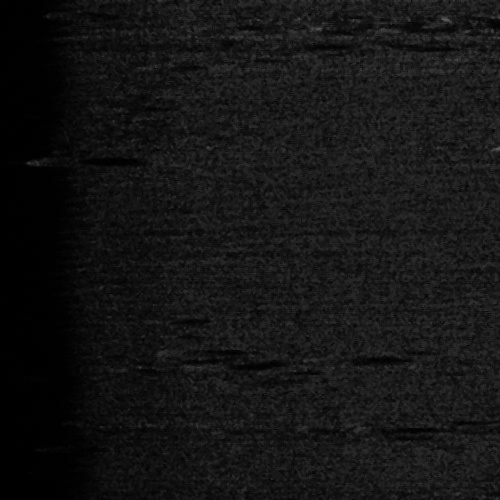object: (134, 348, 187, 353)
shadow: (160, 348, 233, 353)
